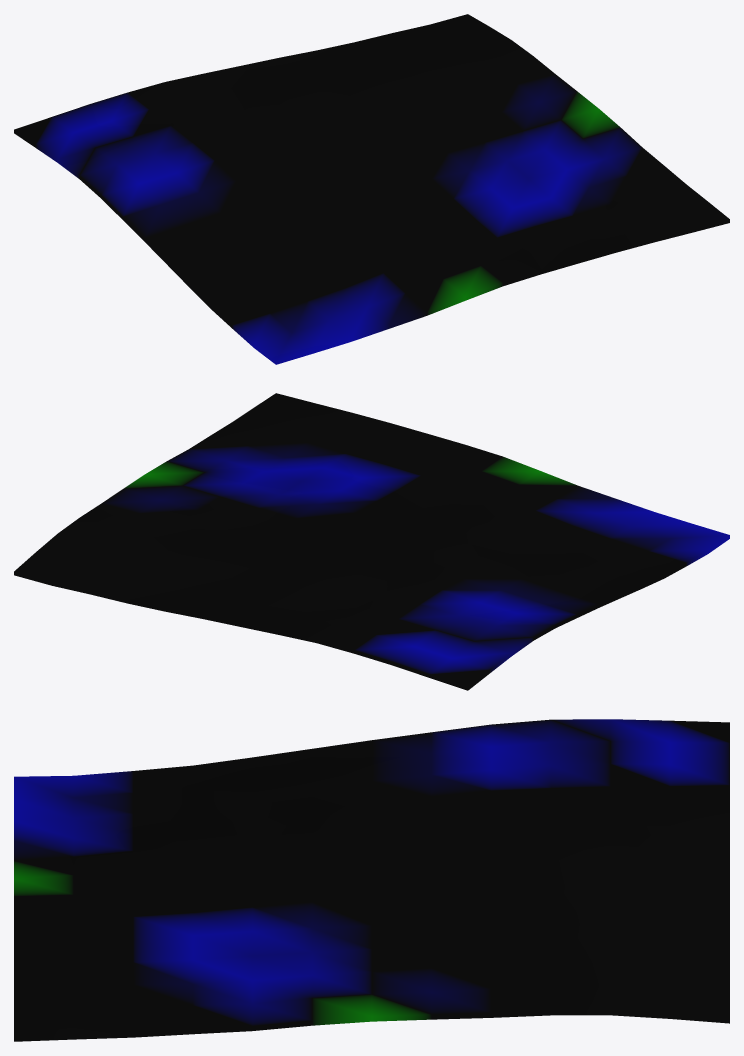
Rendered from coast_16_1.glb.
The picture shows the model from 3 angles, top to bottom: view 1: azimuth 30°, elevation 25°; view 2: azimuth 150°, elevation 25°; view 3: azimuth 270°, elevation 25°; orthographic projection. The views are drawn at different scales.
Visible parts, largest first — view 1: terrain; view 2: terrain; view 3: terrain.
Part boxes in pixels (x1,y1,x2,y2): terrain: (14,14,729,364); terrain: (14,393,729,690); terrain: (14,719,729,1041).
Size of the model in its own units: 192 by 21.92 by 192.
